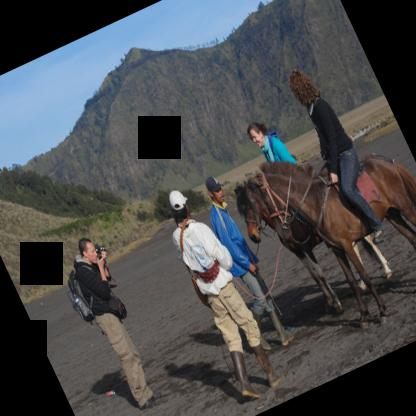backpack: (67, 268, 96, 322)
